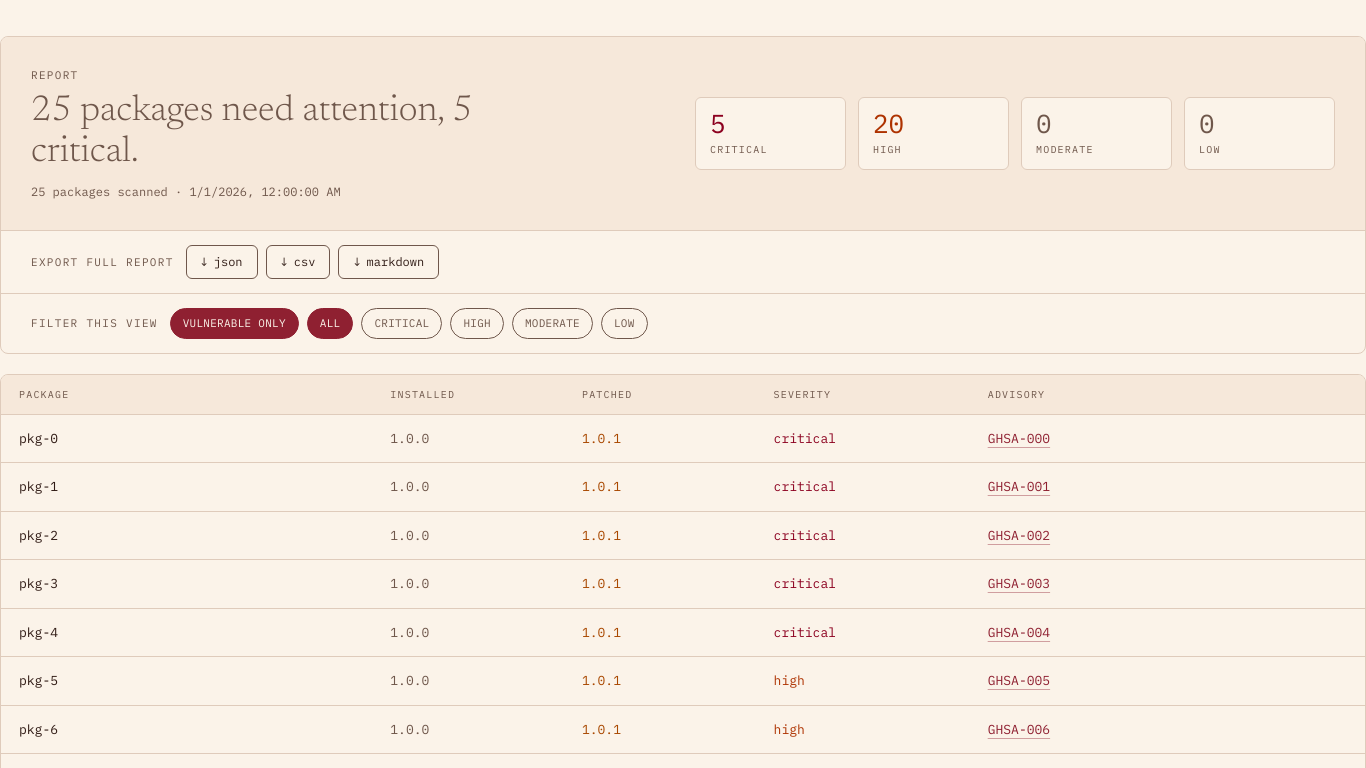
Test: paging the findings table › hides the pager when every finding fits on one page
This screenshot has width=1366, height=768.
Click the button "critical" at (402, 324), box [362, 308, 442, 339]
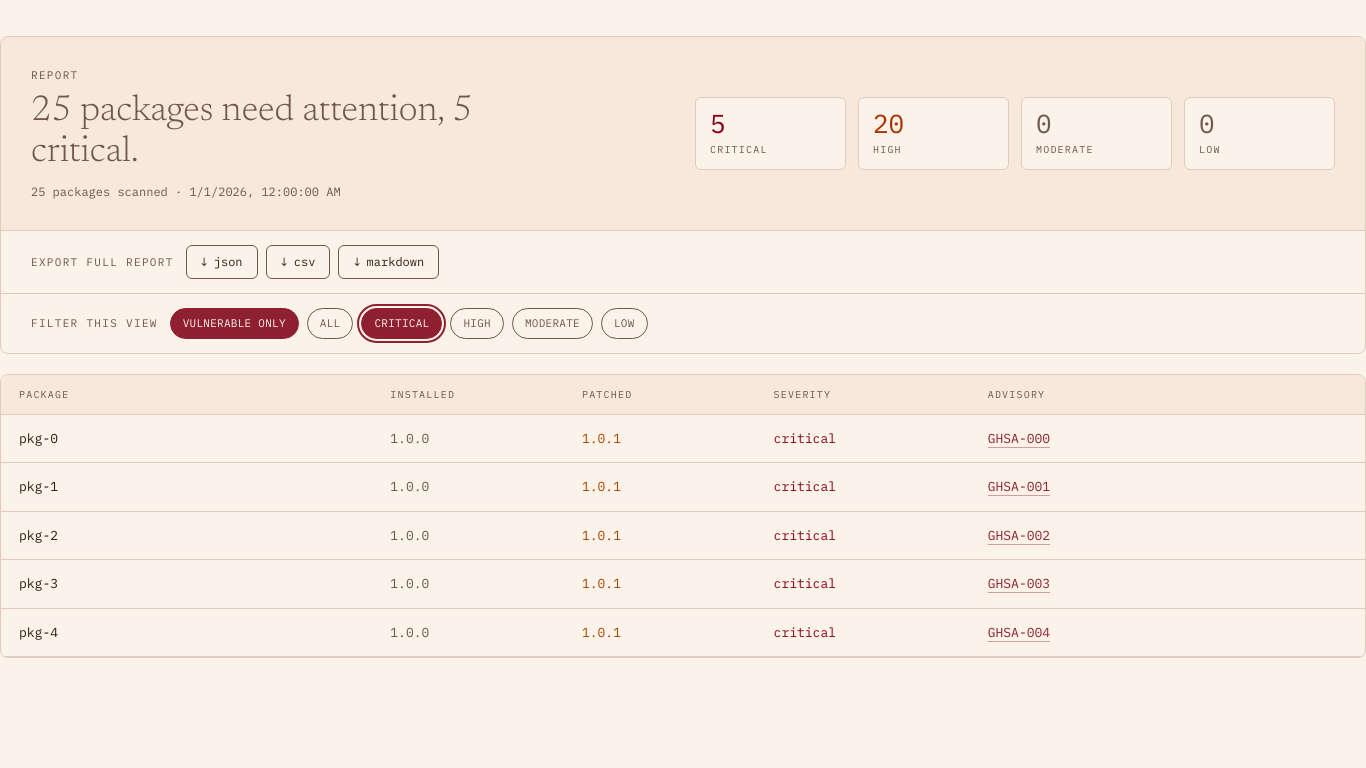
Check: the number of links is 5, box [988, 430, 1050, 447]; [988, 478, 1050, 495]; [988, 527, 1050, 544]; [988, 575, 1050, 592]; [988, 624, 1050, 641]
